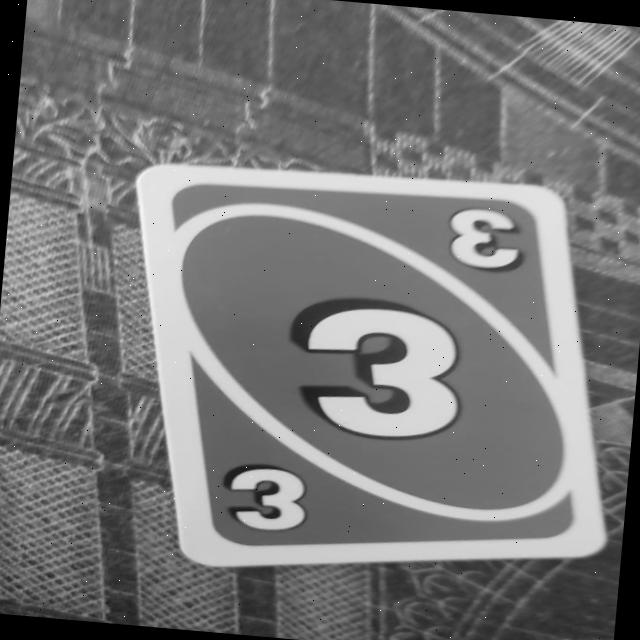card_3: (102, 148, 639, 600)
